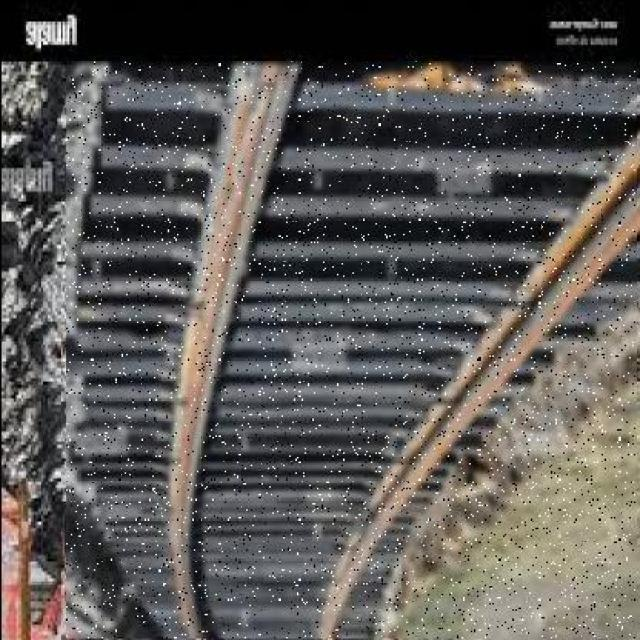rail: (67, 59, 635, 637)
